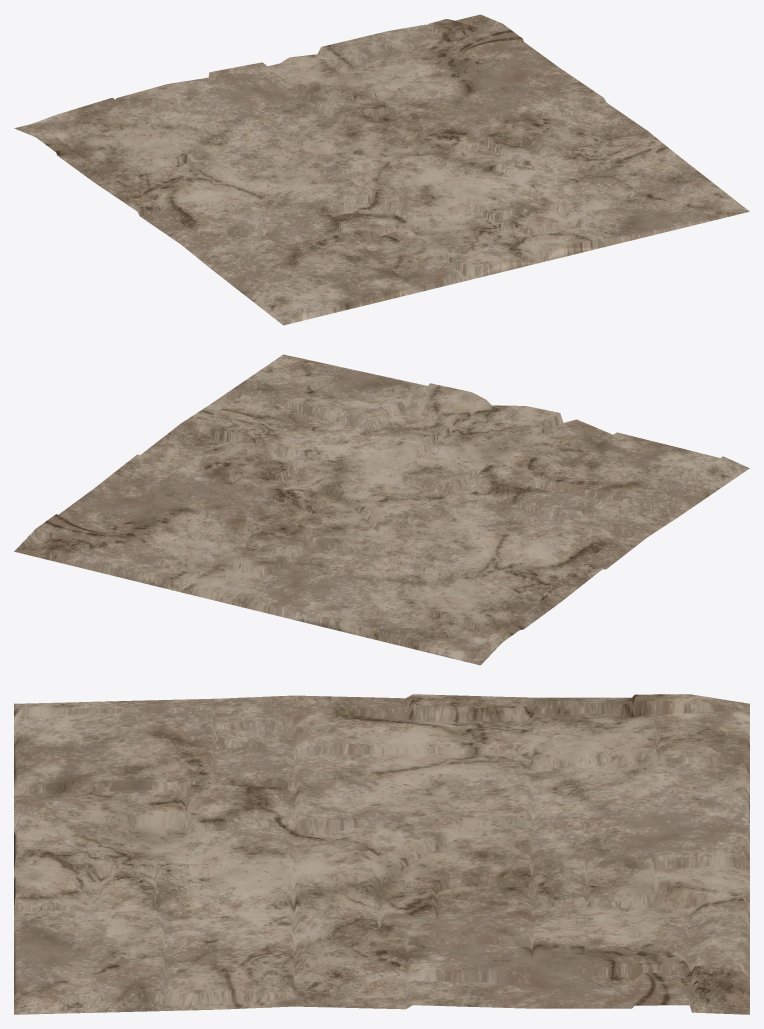
The picture shows the model from 3 angles, top to bottom: view 1: azimuth 30°, elevation 25°; view 2: azimuth 150°, elevation 25°; view 3: azimuth 270°, elevation 25°; orthographic projection. The views are drawn at different scales.
Parts seen in each view (by area): view 1: SM_FloorTiles02_LOD0; view 2: SM_FloorTiles02_LOD0; view 3: SM_FloorTiles02_LOD0.
Part boxes in pixels (x1=…): SM_FloorTiles02_LOD0: x1=14, y1=14, x2=749, y2=325; SM_FloorTiles02_LOD0: x1=14, y1=354, x2=749, y2=665; SM_FloorTiles02_LOD0: x1=14, y1=694, x2=749, y2=1014.
Size of the model in its own units: 4 by 0.1067 by 4.
1 material, 1 textured.
